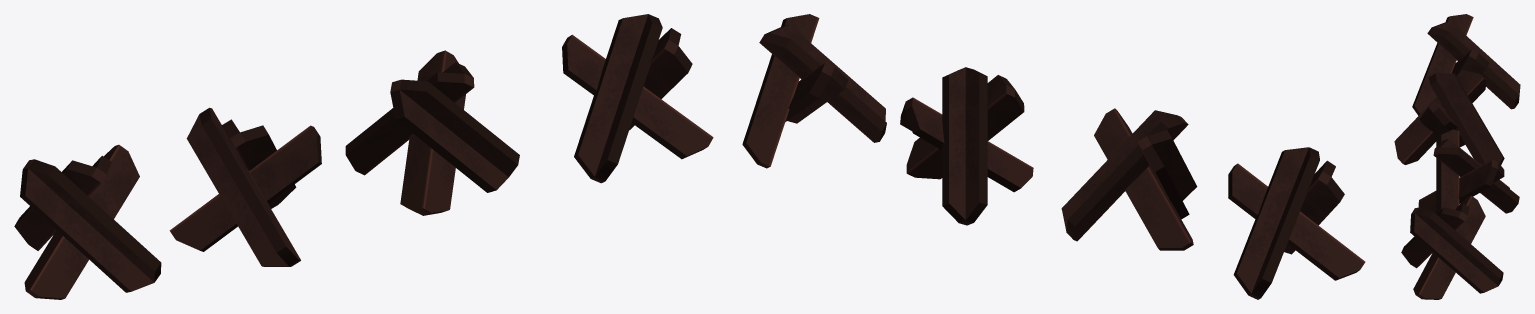
File: Building03_fense.FBX
The picture shows the model from 3 angles, left to right: view 1: azimuth 30°, elevation 25°; view 2: azimuth 150°, elevation 25°; view 3: azimuth 270°, elevation 25°; orthographic projection. The views are drawn at different scales.
Parts seen in each view (by area): view 1: Trifense; view 2: Trifense; view 3: Trifense.
Part boxes in pixels (bbox=[...]): Trifense: bbox=[14, 14, 713, 299]; Trifense: bbox=[742, 14, 1365, 299]; Trifense: bbox=[1394, 14, 1520, 299].
Size of the model in its own units: 6.48 by 1.2 by 1.6.
